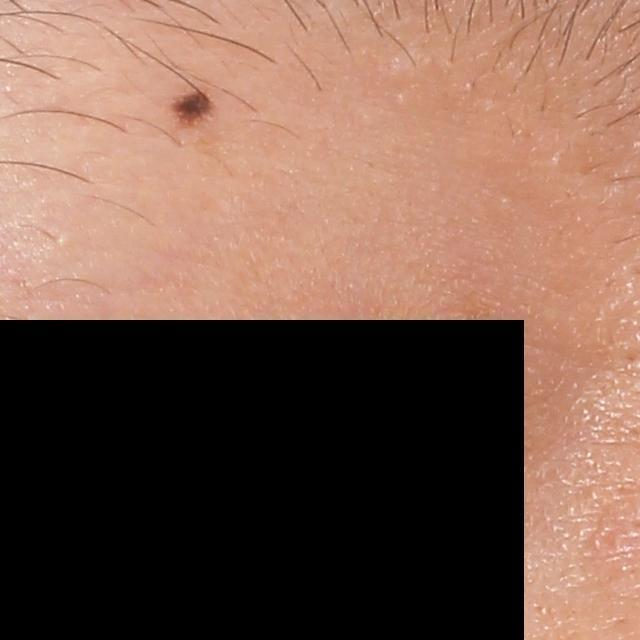nevus: (168, 86, 218, 133)
